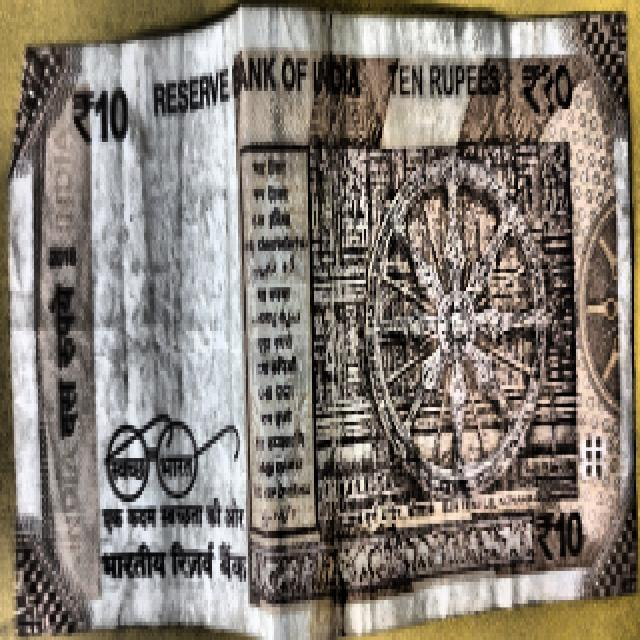-10-: (6, 18, 640, 553)
